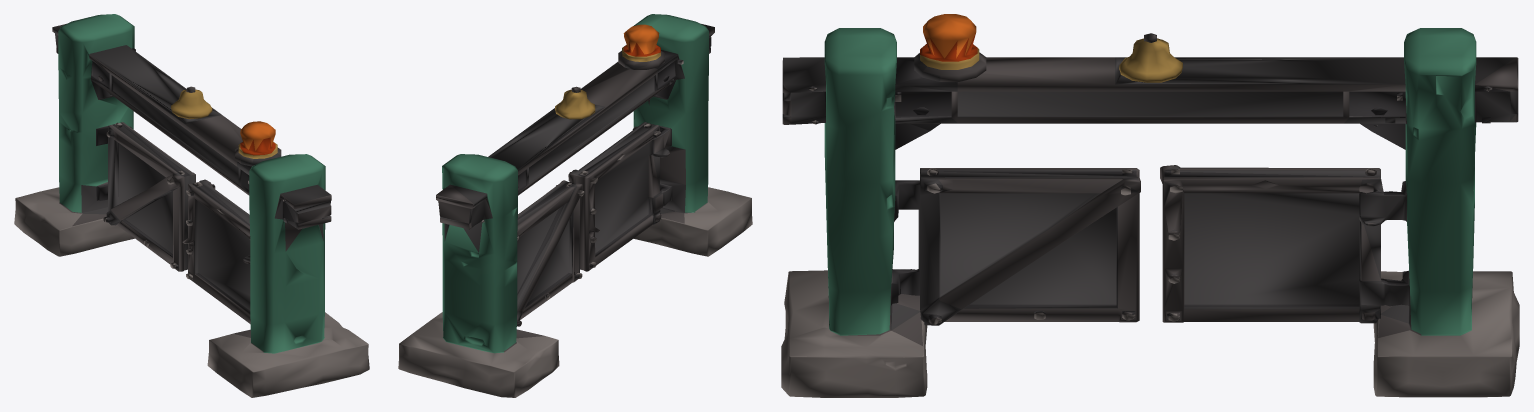
File: poi_yard_gate.glb
3 renders of one model, left to right at view 1: azimuth 30°, elevation 25°; view 2: azimuth 150°, elevation 25°; view 3: azimuth 270°, elevation 25°, orthographic. The views are drawn at different scales.
Parts seen in each view (by area): view 1: YardGate; view 2: YardGate; view 3: YardGate.
Boxes of the visible parts, x1,y1,x2,y2 form: YardGate: [14, 14, 369, 397]; YardGate: [398, 14, 752, 397]; YardGate: [781, 14, 1519, 397].
Size of the model in its own units: 2.3 by 4 by 8.
